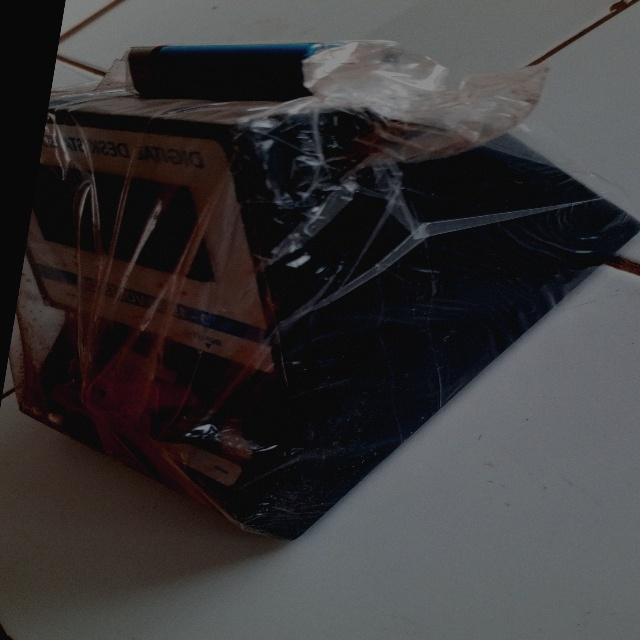Digital Voltmeter 0-20V: (2, 29, 640, 580)
